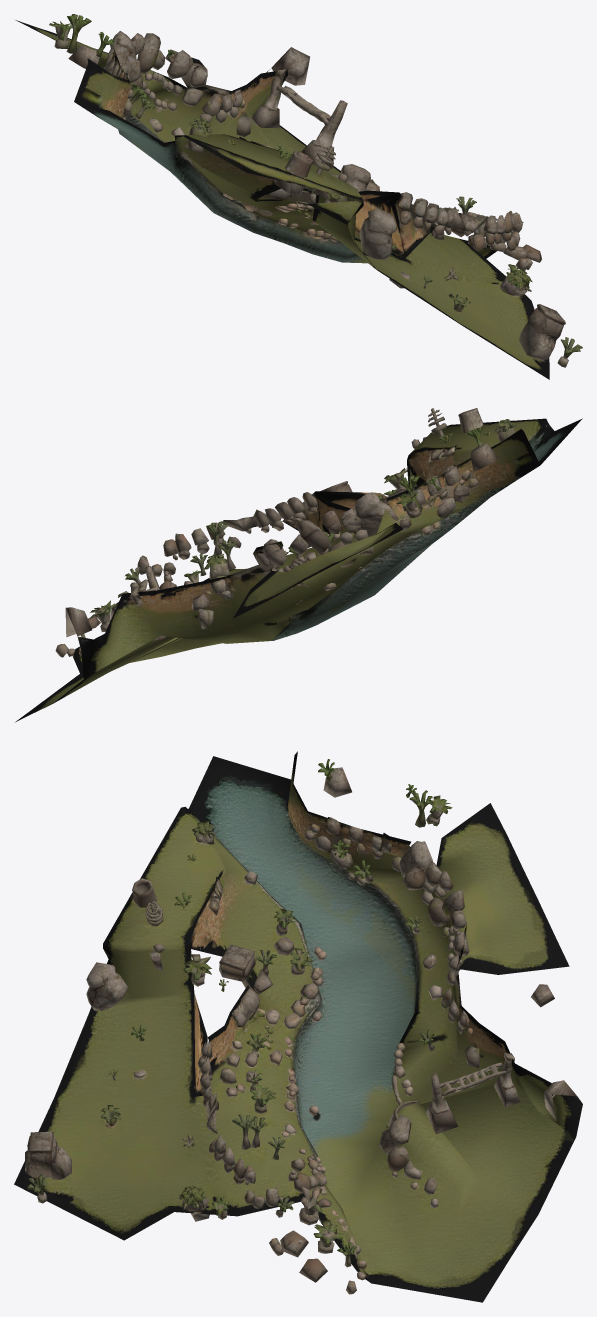
The model's file is VAL_Capital_Environment_River_Curve_Left.glb.
The picture shows the model from 3 angles, top to bottom: view 1: azimuth 30°, elevation 25°; view 2: azimuth 150°, elevation 25°; view 3: azimuth 270°, elevation 25°; orthographic projection. The views are drawn at different scales.
Parts seen in each view (by area): view 1: tripo_node_66863a74-cfd4-41db-b1a6-18b6c6df3456; view 2: tripo_node_66863a74-cfd4-41db-b1a6-18b6c6df3456; view 3: tripo_node_66863a74-cfd4-41db-b1a6-18b6c6df3456.
Part boxes in pixels (x1=…): tripo_node_66863a74-cfd4-41db-b1a6-18b6c6df3456: x1=15, y1=14, x2=582, y2=379; tripo_node_66863a74-cfd4-41db-b1a6-18b6c6df3456: x1=15, y1=408, x2=582, y2=722; tripo_node_66863a74-cfd4-41db-b1a6-18b6c6df3456: x1=14, y1=751, x2=582, y2=1302.
Size of the model in its own units: 0.959 by 0.6699 by 0.998.
1 material, 1 textured.
